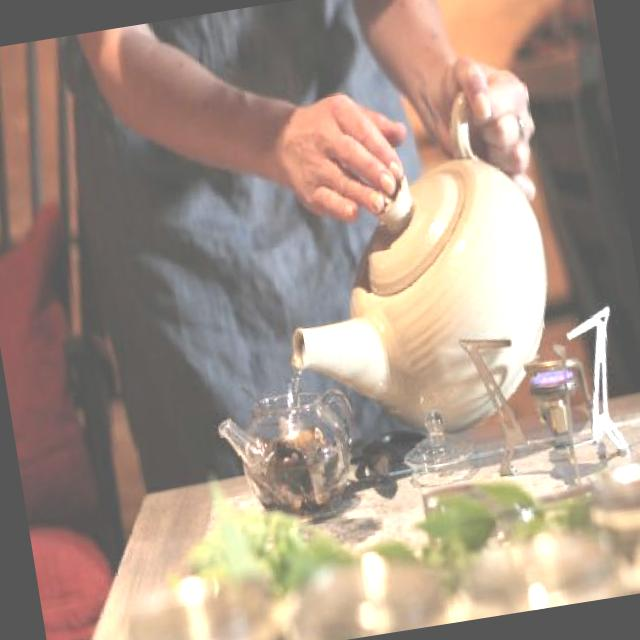Person: (39, 0, 587, 563)
